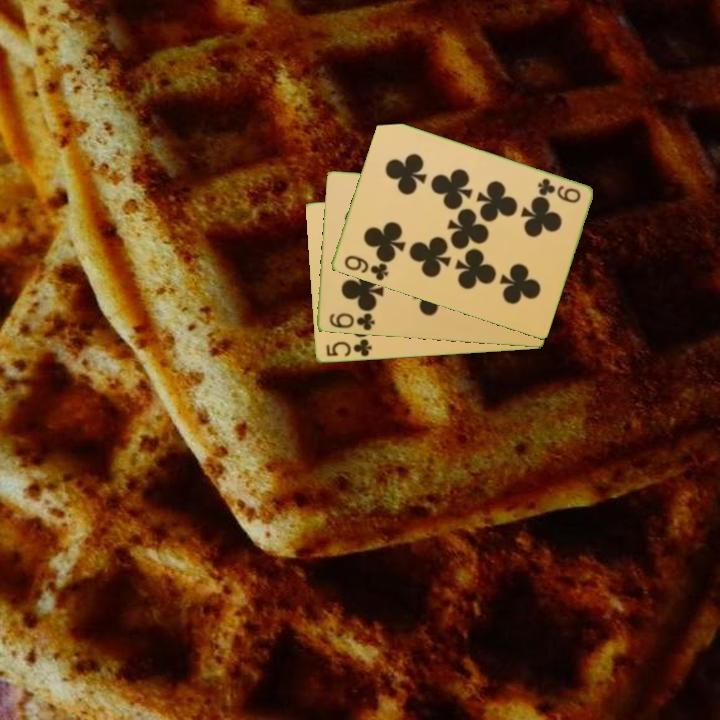5c: (322, 336, 374, 360)
6c: (326, 309, 377, 334)
9c: (340, 252, 391, 284), (534, 175, 583, 206)
